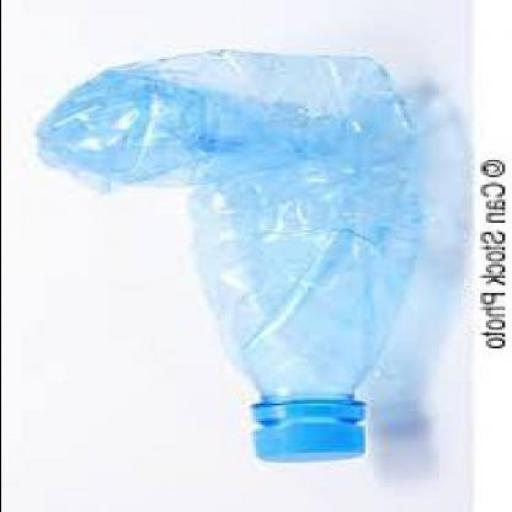plastic: (27, 48, 416, 458), (249, 400, 364, 458)
